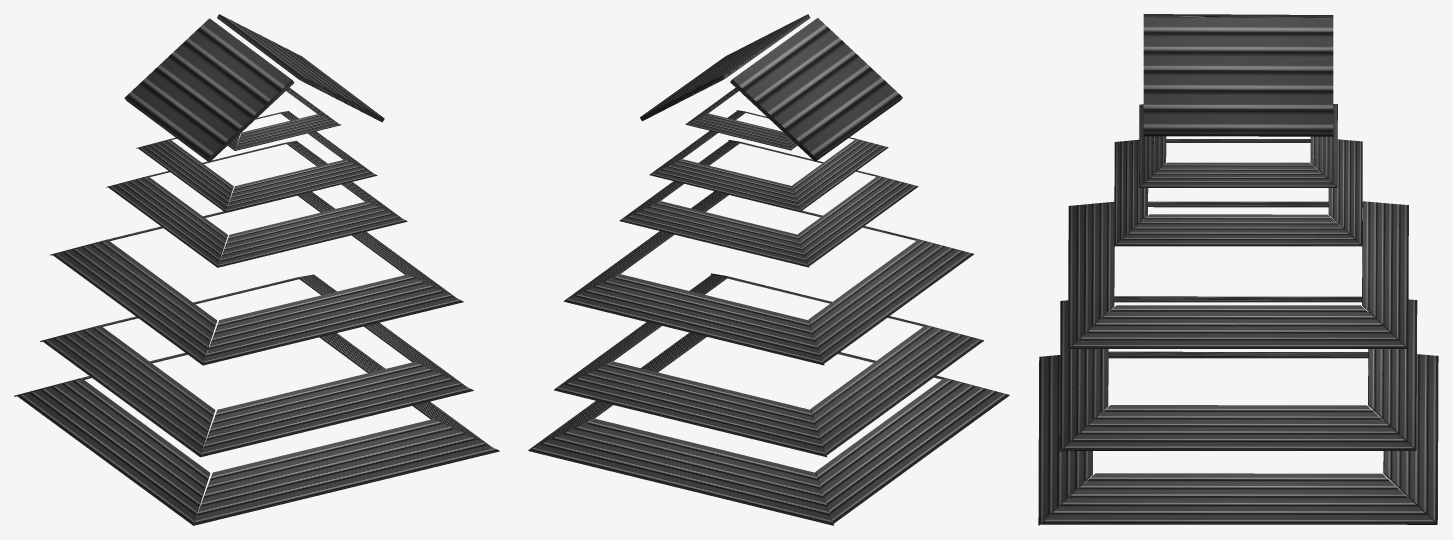
Rendered from Siro_keiryou.fbx.
The picture shows the model from 3 angles, left to right: view 1: azimuth 30°, elevation 25°; view 2: azimuth 150°, elevation 25°; view 3: azimuth 270°, elevation 25°; orthographic projection. The views are drawn at different scales.
Visible parts, largest first — view 1: Cube.872, Cube.892, Cube.867, Cube.873, Cube.876, Cube.869, Cube.877, Cube.880, Cube.881, Cube.884, Cube.891, Cube.885 (+6 smaller); view 2: Cube.874, Cube.892, Cube.870, Cube.873, Cube.878, Cube.869, Cube.877, Cube.882, Cube.881, Cube.886, Cube.885, Cube.891 (+6 smaller); view 3: Cube.891, Cube.871, Cube.868, Cube.875, Cube.879, Cube.878, Cube.876, Cube.874, Cube.872, Cube.883, Cube.870, Cube.867 (+9 smaller).
Boxes of the visible parts, x1,y1,x2,y2 form: Cube.872: [193, 419, 499, 525]; Cube.892: [124, 18, 294, 162]; Cube.867: [200, 362, 473, 457]; Cube.873: [17, 379, 210, 525]; Cube.876: [202, 274, 463, 365]; Cube.869: [43, 326, 215, 456]; Cube.877: [53, 240, 216, 364]; Cube.880: [217, 201, 407, 267]; Cube.881: [108, 176, 227, 267]; Cube.884: [225, 159, 377, 212]; Cube.891: [217, 14, 384, 122]; Cube.885: [138, 139, 233, 212]; Cube.874: [528, 418, 833, 525]; Cube.892: [730, 18, 902, 161]; Cube.870: [554, 361, 826, 457]; Cube.873: [815, 378, 1009, 523]; Cube.878: [564, 274, 824, 365]; Cube.869: [810, 325, 983, 454]; Cube.877: [808, 240, 973, 363]; Cube.882: [619, 201, 809, 267]; Cube.881: [798, 176, 918, 266]; Cube.886: [649, 159, 800, 212]; Cube.885: [792, 139, 888, 210]; Cube.891: [640, 14, 810, 121]; Cube.891: [1143, 17, 1333, 136]; Cube.871: [1041, 473, 1436, 524]; Cube.868: [1062, 405, 1415, 450]; Cube.875: [1070, 305, 1407, 348]; Cube.879: [1116, 214, 1361, 246]; Cube.878: [1362, 201, 1408, 348]; Cube.876: [1068, 202, 1114, 349]; Cube.874: [1383, 354, 1438, 524]; Cube.872: [1038, 355, 1092, 525]; Cube.883: [1140, 162, 1336, 187]; Cube.870: [1368, 299, 1417, 450]; Cube.867: [1059, 300, 1108, 451].
Bounding box in the file's own units: 6291 × 7389 × 6295.
Materials: 1 (1 with a texture image).
